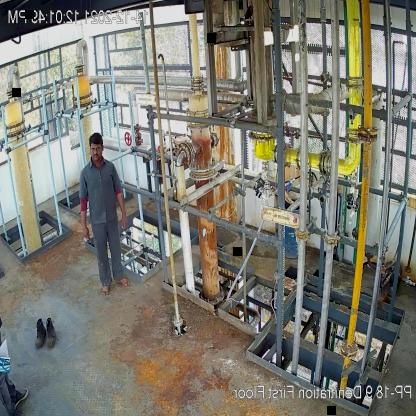no_shoes: (115, 276, 132, 286), (102, 285, 112, 298)
shoes: (42, 316, 58, 349), (34, 318, 46, 348)
